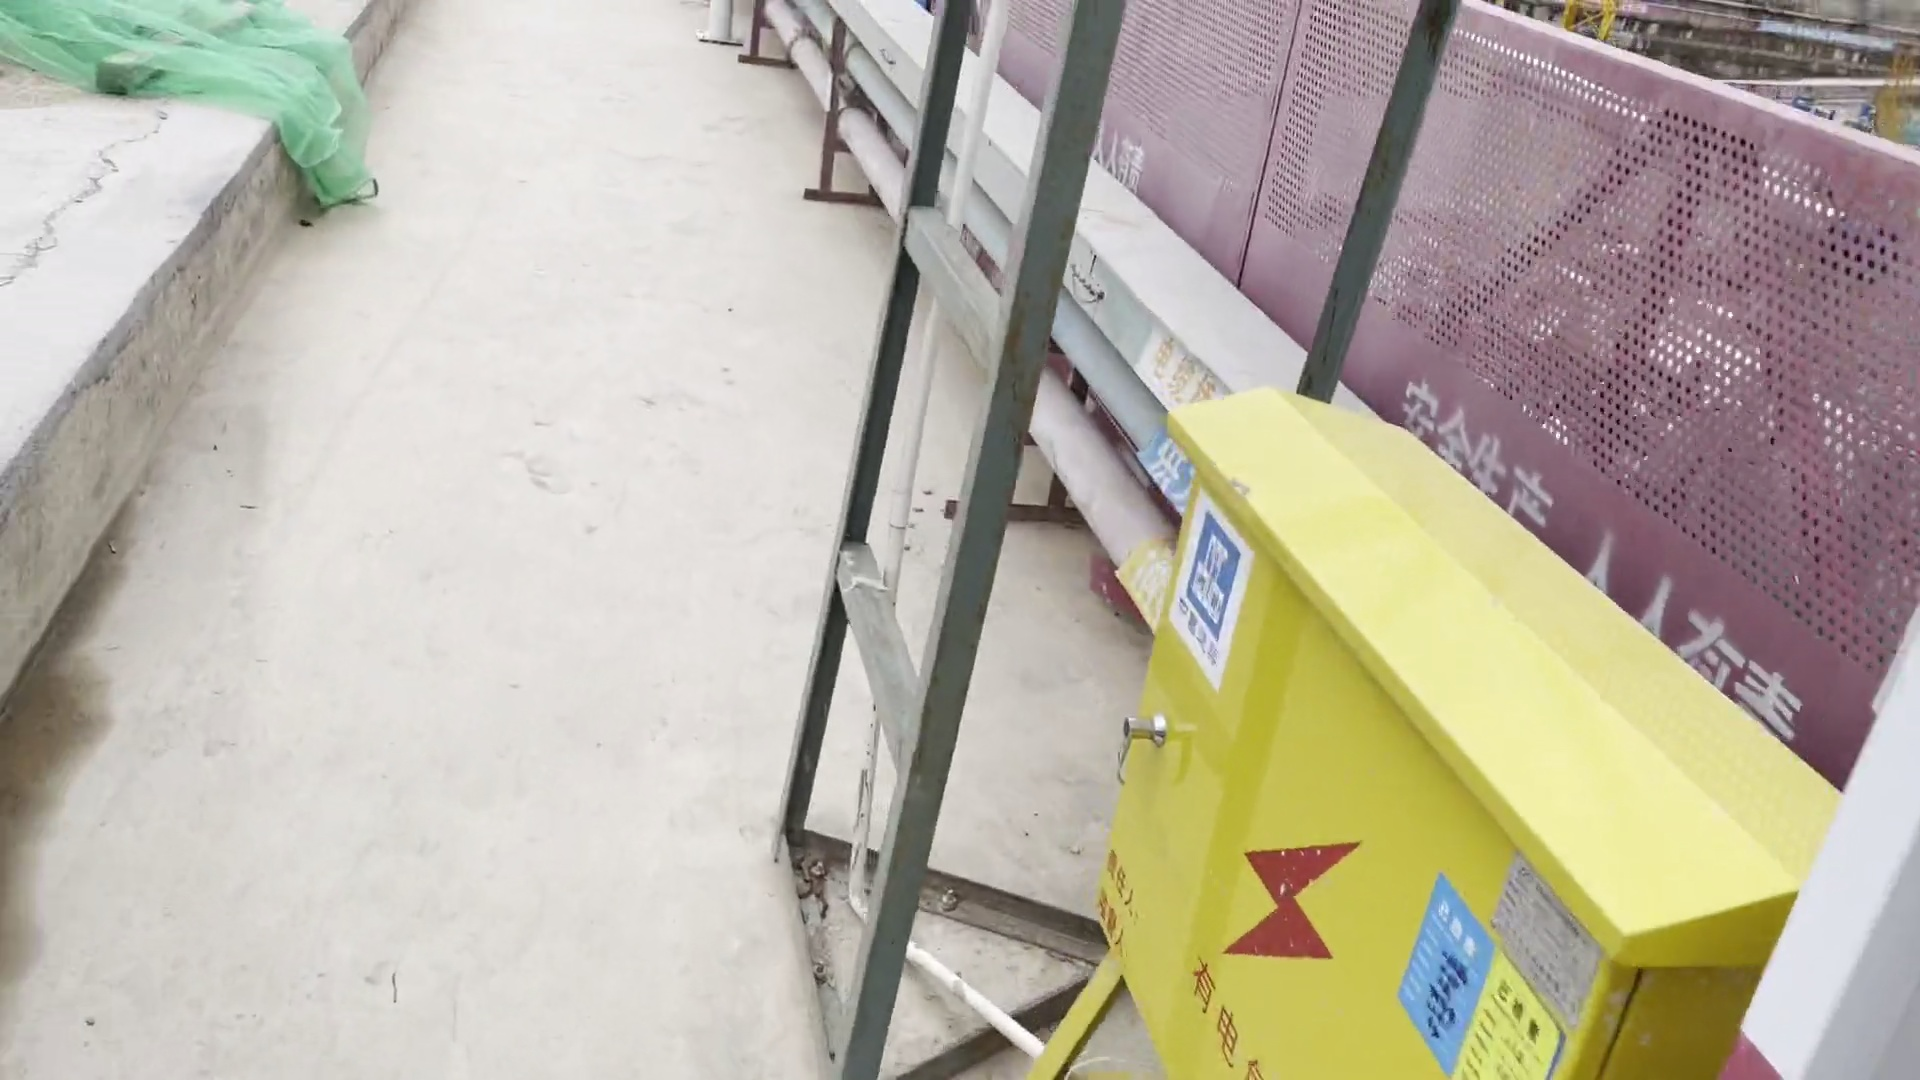ebox: (1065, 357, 1850, 1080)
fence: (971, 3, 1920, 794)
slogan: (1096, 305, 1222, 622), (1154, 506, 1267, 684)
